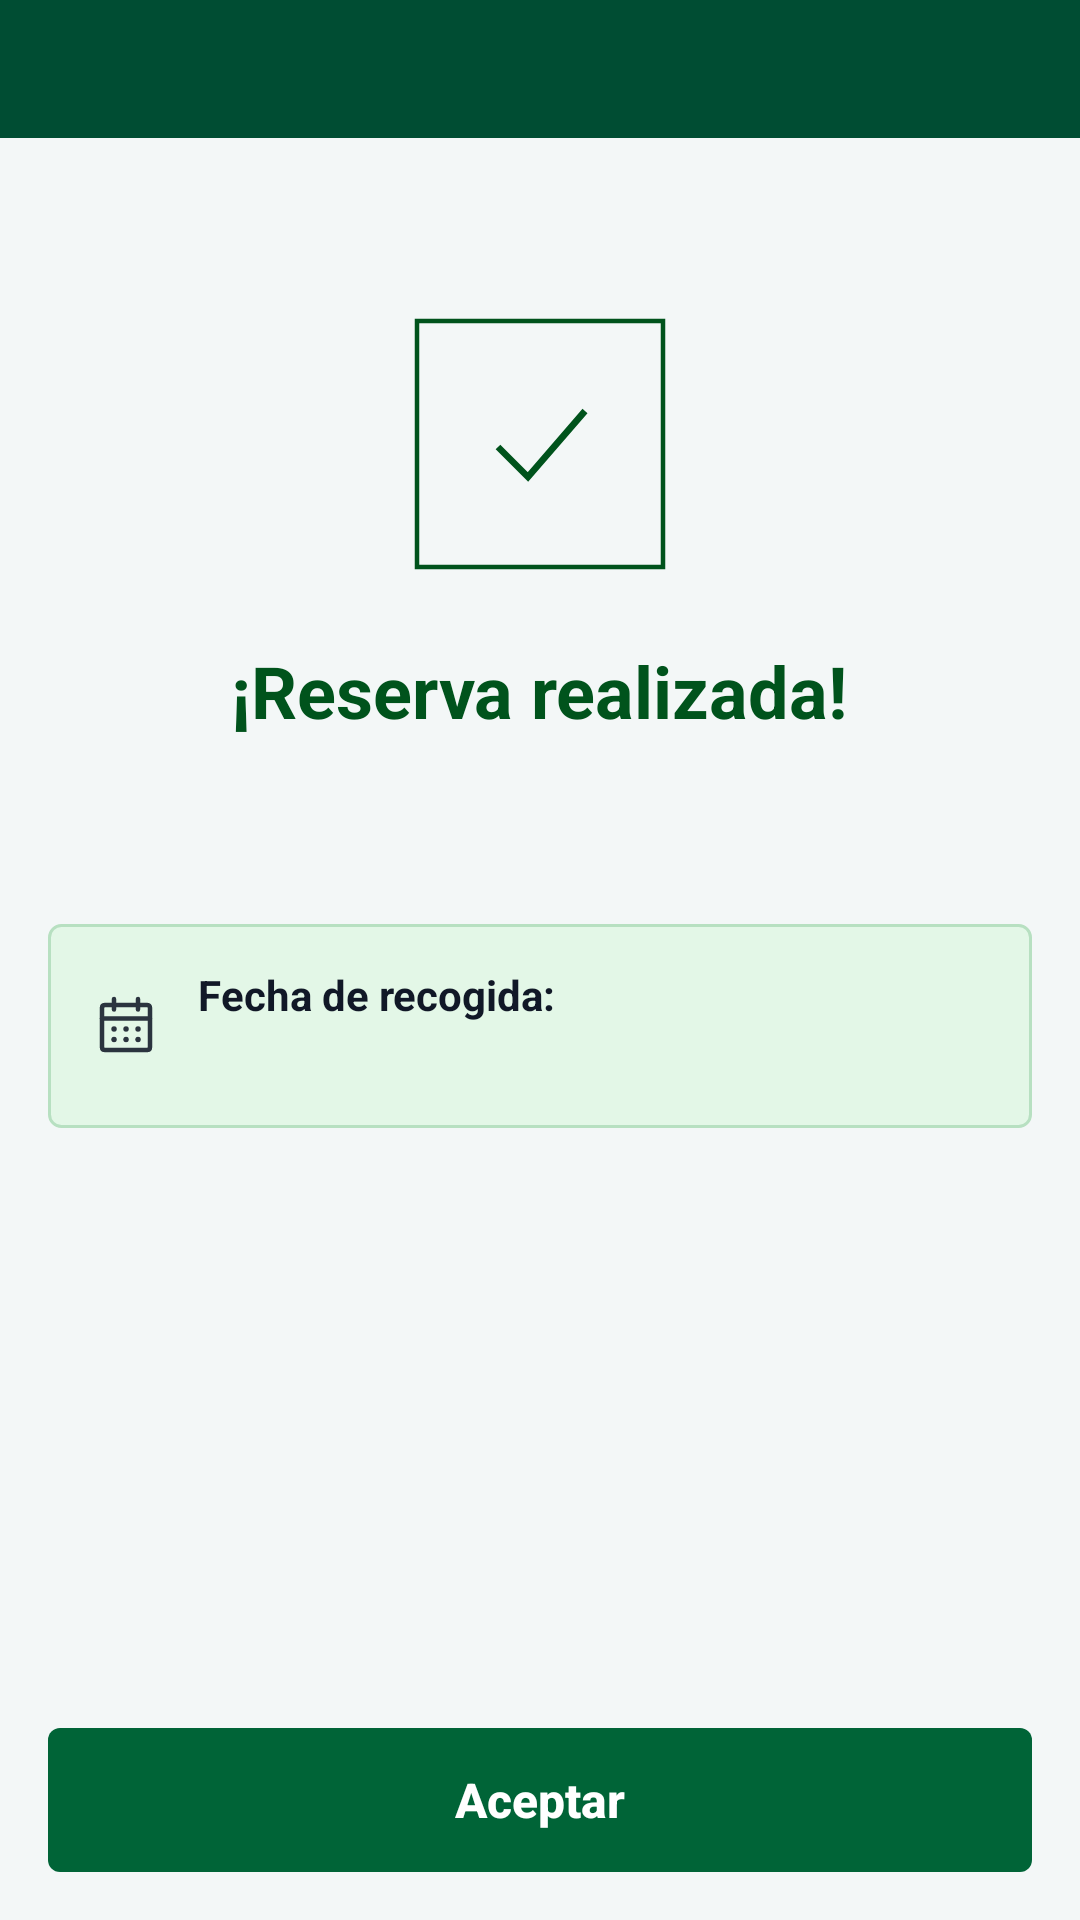

Where icons sit on this 1080w x 1920h app screen, as [x1=x1, y1=y1, x2=x2, y2=y2]:
cbta calendario: [x1=99, y1=996, x2=153, y2=1053]
cbta exito: [x1=414, y1=318, x2=666, y2=570]
